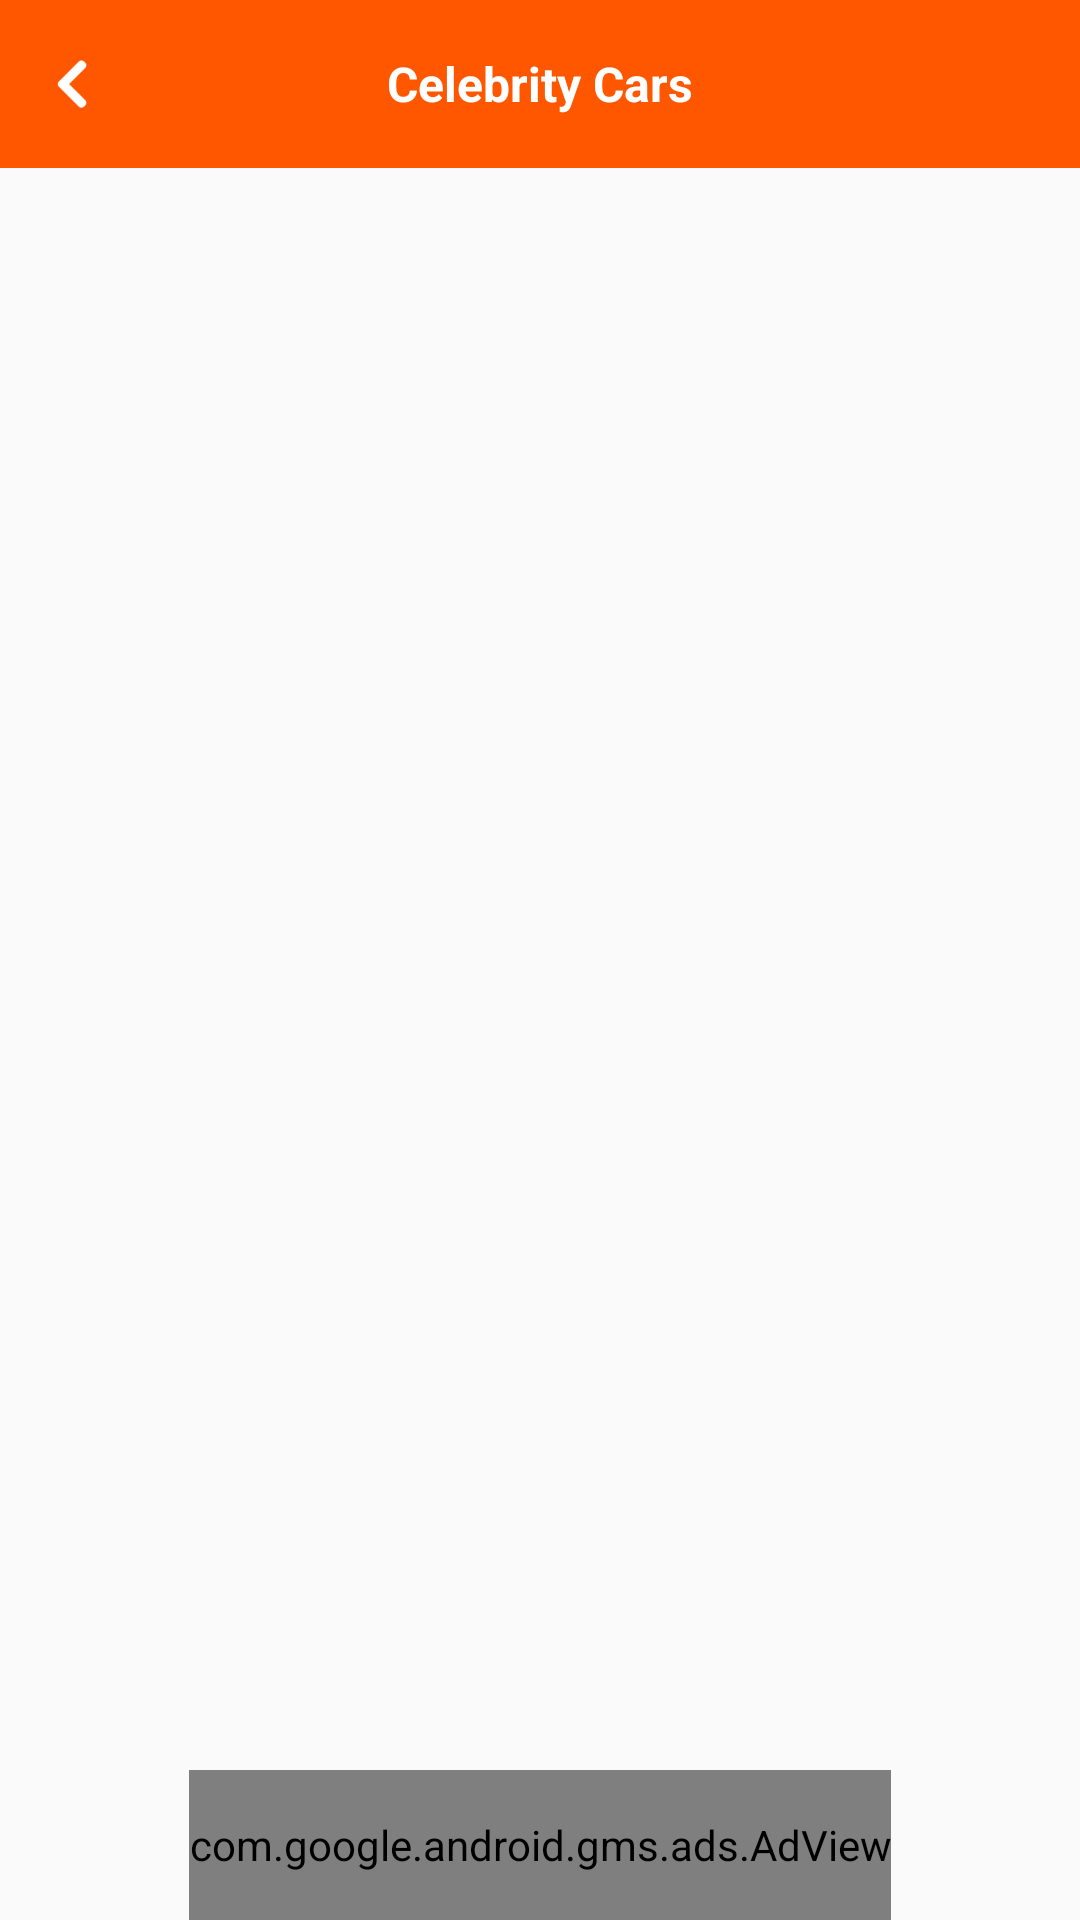

Where icons sit on this 1080 × 1920 app screen, as (x1, y1, x2, y2):
back: (57, 60, 87, 108)
